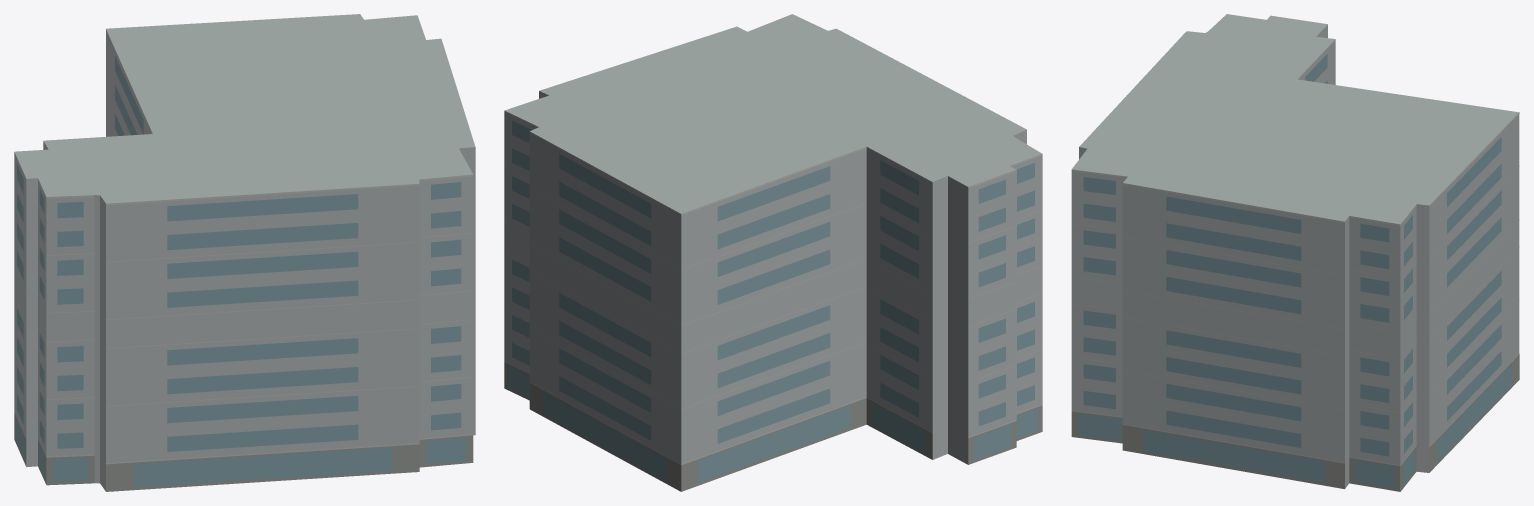
File: survey-upis-32509974.glb
3 views of the same model, side by side, from view 1: azimuth 30°, elevation 25°; view 2: azimuth 150°, elevation 25°; view 3: azimuth 270°, elevation 25° (orthographic). The views are drawn at different scales.
Visible parts, largest first — view 1: survey-upis-32509974.tmp; view 2: survey-upis-32509974.tmp; view 3: survey-upis-32509974.tmp.
Boxes of the visible parts, box(x1,y1,x2,y2) form: survey-upis-32509974.tmp: box(14, 14, 475, 491); survey-upis-32509974.tmp: box(504, 14, 1042, 491); survey-upis-32509974.tmp: box(1071, 14, 1519, 491).
Size of the model in its own units: 69.01 by 40.9 by 62.09.
